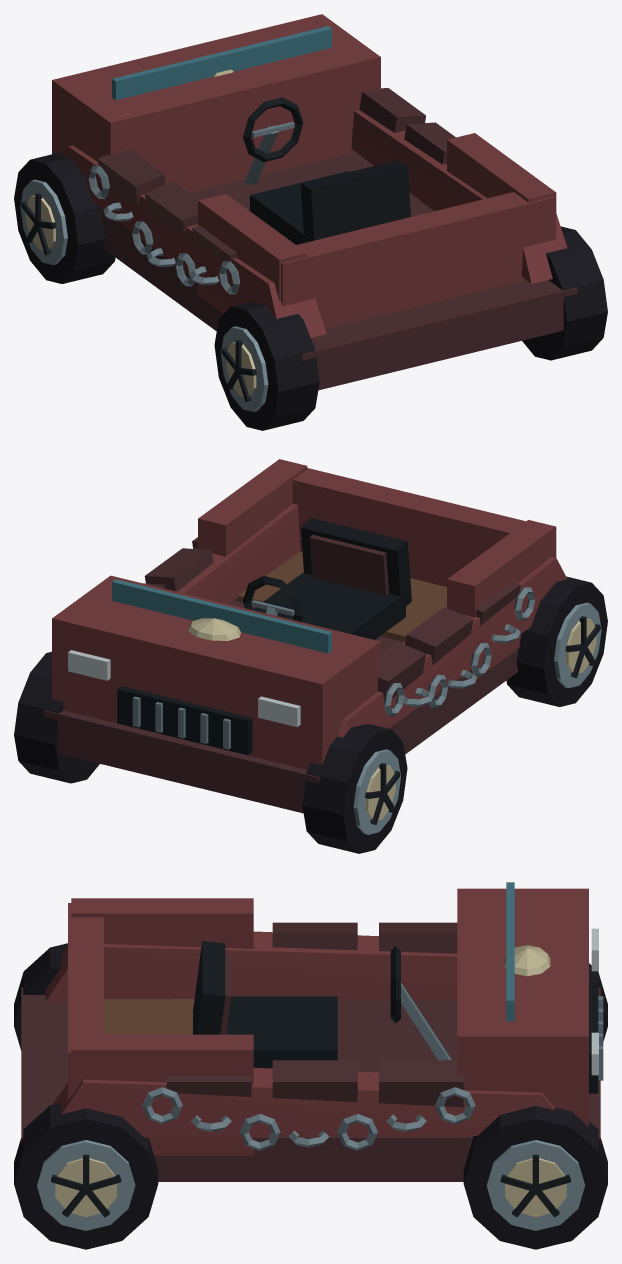
The model's file is kart.glb.
The picture shows the model from 3 angles, top to bottom: view 1: azimuth 30°, elevation 25°; view 2: azimuth 150°, elevation 25°; view 3: azimuth 270°, elevation 25°; orthographic projection. The views are drawn at different scales.
Visible parts, largest first — view 1: identity-truck-truck-utility-body, identity-truck-driver-cockpit, wheel-rear-left, wheel-front-left, identity-truck-motif-armor, wheel-rear-right, identity-truck-motif-chains; view 2: identity-truck-truck-utility-body, identity-truck-driver-cockpit, wheel-front-left, wheel-rear-left, identity-truck-motif-armor, wheel-front-right, identity-truck-motif-chains, identity-truck-motif-skull; view 3: identity-truck-truck-utility-body, wheel-front-right, wheel-rear-right, identity-truck-motif-armor, identity-truck-driver-cockpit, identity-truck-motif-chains, wheel-rear-left, identity-truck-motif-skull.
Boxes of the visible parts, x1,y1,x2,y2 form: identity-truck-truck-utility-body: [52, 14, 577, 390]; identity-truck-driver-cockpit: [243, 97, 410, 244]; wheel-rear-left: [214, 301, 319, 430]; wheel-front-left: [14, 152, 115, 283]; identity-truck-motif-armor: [97, 88, 455, 262]; wheel-rear-right: [522, 226, 607, 360]; identity-truck-motif-chains: [88, 165, 240, 294]; identity-truck-truck-utility-body: [44, 459, 567, 813]; identity-truck-driver-cockpit: [243, 517, 411, 639]; wheel-front-left: [302, 724, 407, 853]; wheel-rear-left: [506, 576, 607, 706]; identity-truck-motif-armor: [143, 537, 520, 699]; wheel-front-right: [14, 651, 99, 783]; identity-truck-motif-chains: [383, 587, 535, 715]; identity-truck-motif-skull: [188, 618, 240, 640]; identity-truck-truck-utility-body: [21, 882, 603, 1181]; wheel-front-right: [463, 1106, 607, 1249]; wheel-rear-right: [14, 1102, 158, 1249]; identity-truck-motif-armor: [166, 922, 463, 1107]; identity-truck-driver-cockpit: [193, 941, 451, 1068]; identity-truck-motif-chains: [142, 1087, 475, 1150]; wheel-rear-left: [14, 943, 67, 1050]; identity-truck-motif-skull: [504, 945, 550, 976].
Bounding box in the file's own units: 2.13 × 1.13 × 2.8.
